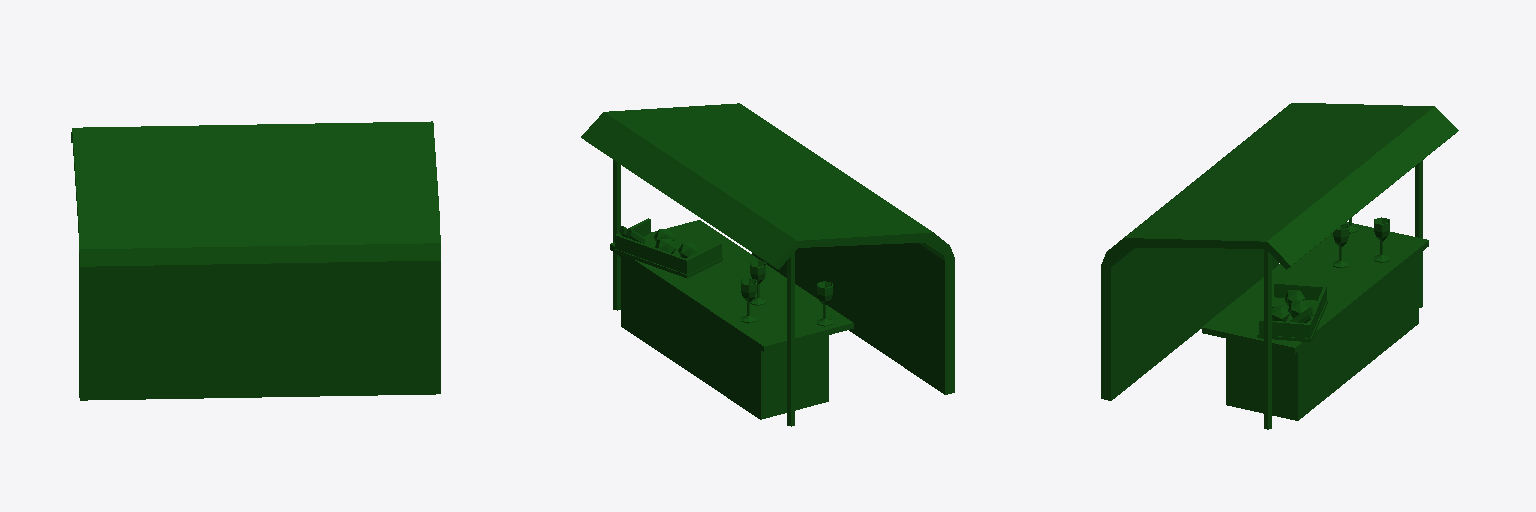
The model's file is stall.obj.
3 renders of one model, left to right at view 1: azimuth 30°, elevation 25°; view 2: azimuth 150°, elevation 25°; view 3: azimuth 270°, elevation 25°, orthographic.
Visible parts, largest first — view 1: Cube.001; view 2: Cube.001; view 3: Cube.001.
Boxes of the visible parts, <box> form: Cube.001: <box>71,121,440,400</box>; Cube.001: <box>581,103,954,426</box>; Cube.001: <box>1101,103,1458,429</box>.
Size of the model in its own units: 10.36 by 5.32 by 8.83.